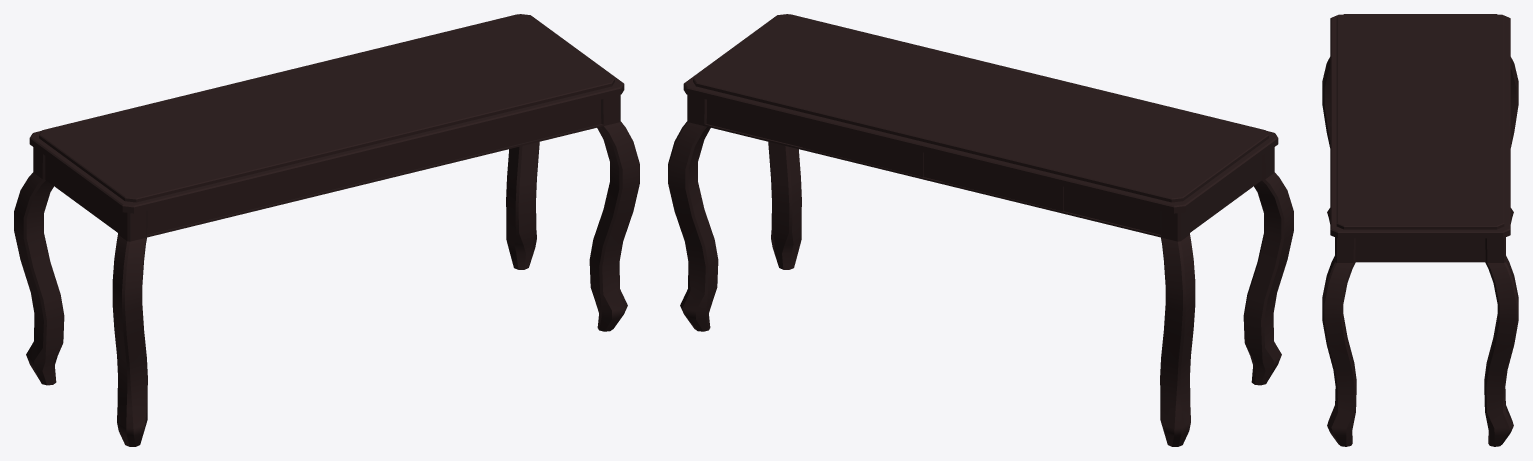
File: BgMD_desk (2).fbx
The picture shows the model from 3 angles, left to right: view 1: azimuth 30°, elevation 25°; view 2: azimuth 150°, elevation 25°; view 3: azimuth 270°, elevation 25°; orthographic projection. The views are drawn at different scales.
Parts seen in each view (by area): view 1: Bg_desk1; view 2: Bg_desk1; view 3: Bg_desk1.
Part boxes in pixels (x1=…): Bg_desk1: x1=14, y1=14, x2=639, y2=446; Bg_desk1: x1=668, y1=14, x2=1293, y2=446; Bg_desk1: x1=1322, y1=14, x2=1518, y2=446.
Size of the model in its own units: 155 by 71.05 by 57.01.
1 material, 1 textured.
